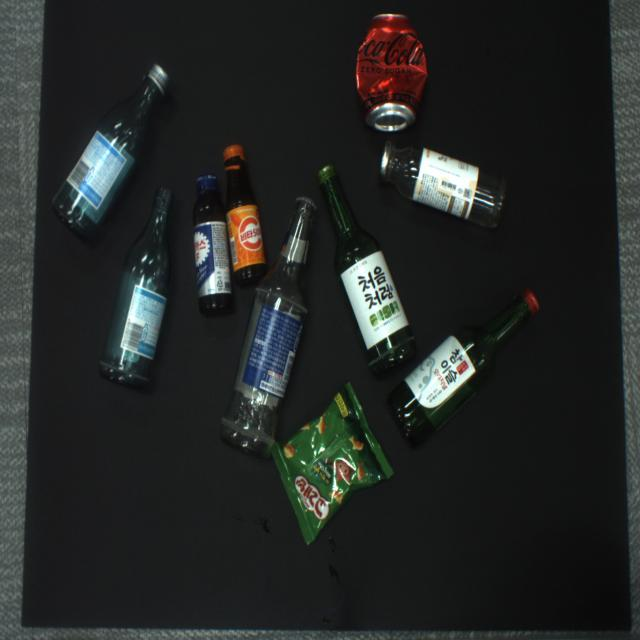beer-bottle: (221, 200, 317, 460)
soju-bottle: (386, 287, 541, 444), (52, 65, 171, 245), (318, 166, 415, 374), (98, 187, 172, 391)
